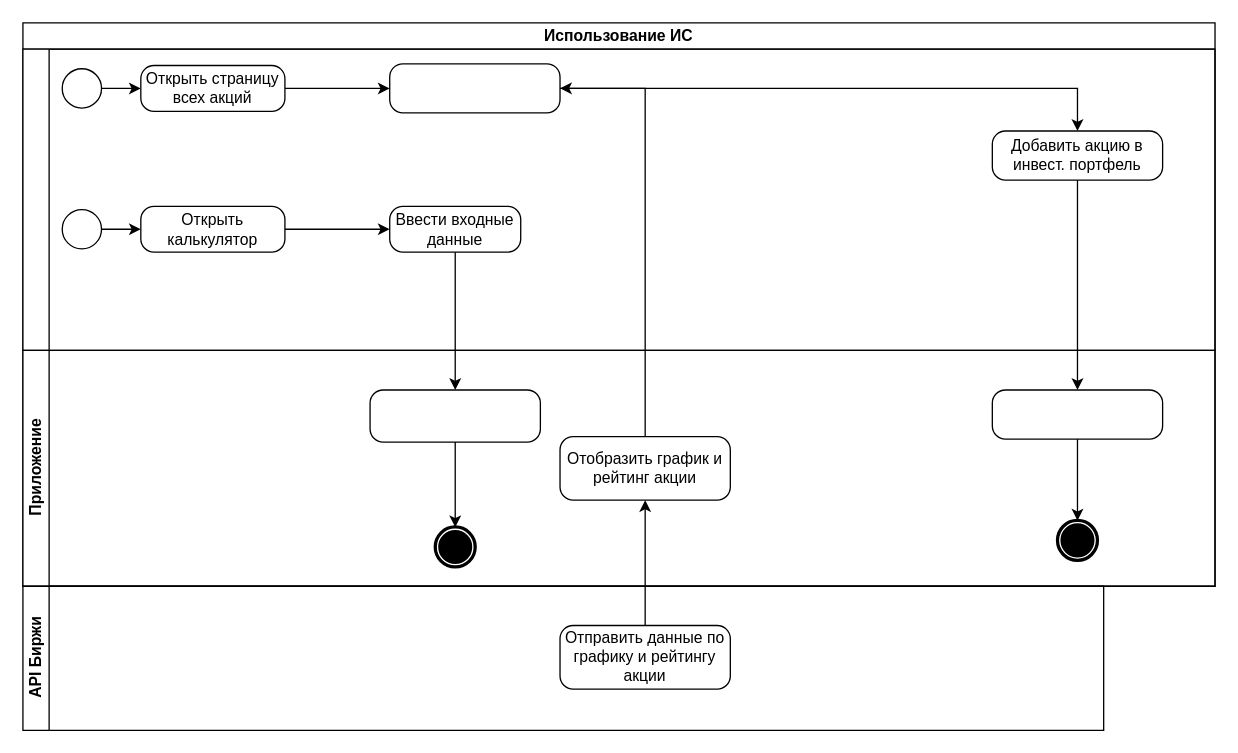
This 1238x753 diagram has some shape labels left out. Here are the shapes that lost their labels. From the top down, the box of each, then its label:
(388, 62, 560, 113): Открыть страницу конкретной акции
(22, 48, 1215, 350): Пользователь
(369, 389, 540, 442): Отобразить результаты расчета
(991, 389, 1163, 439): Сохранить инвест. портфель в системе
